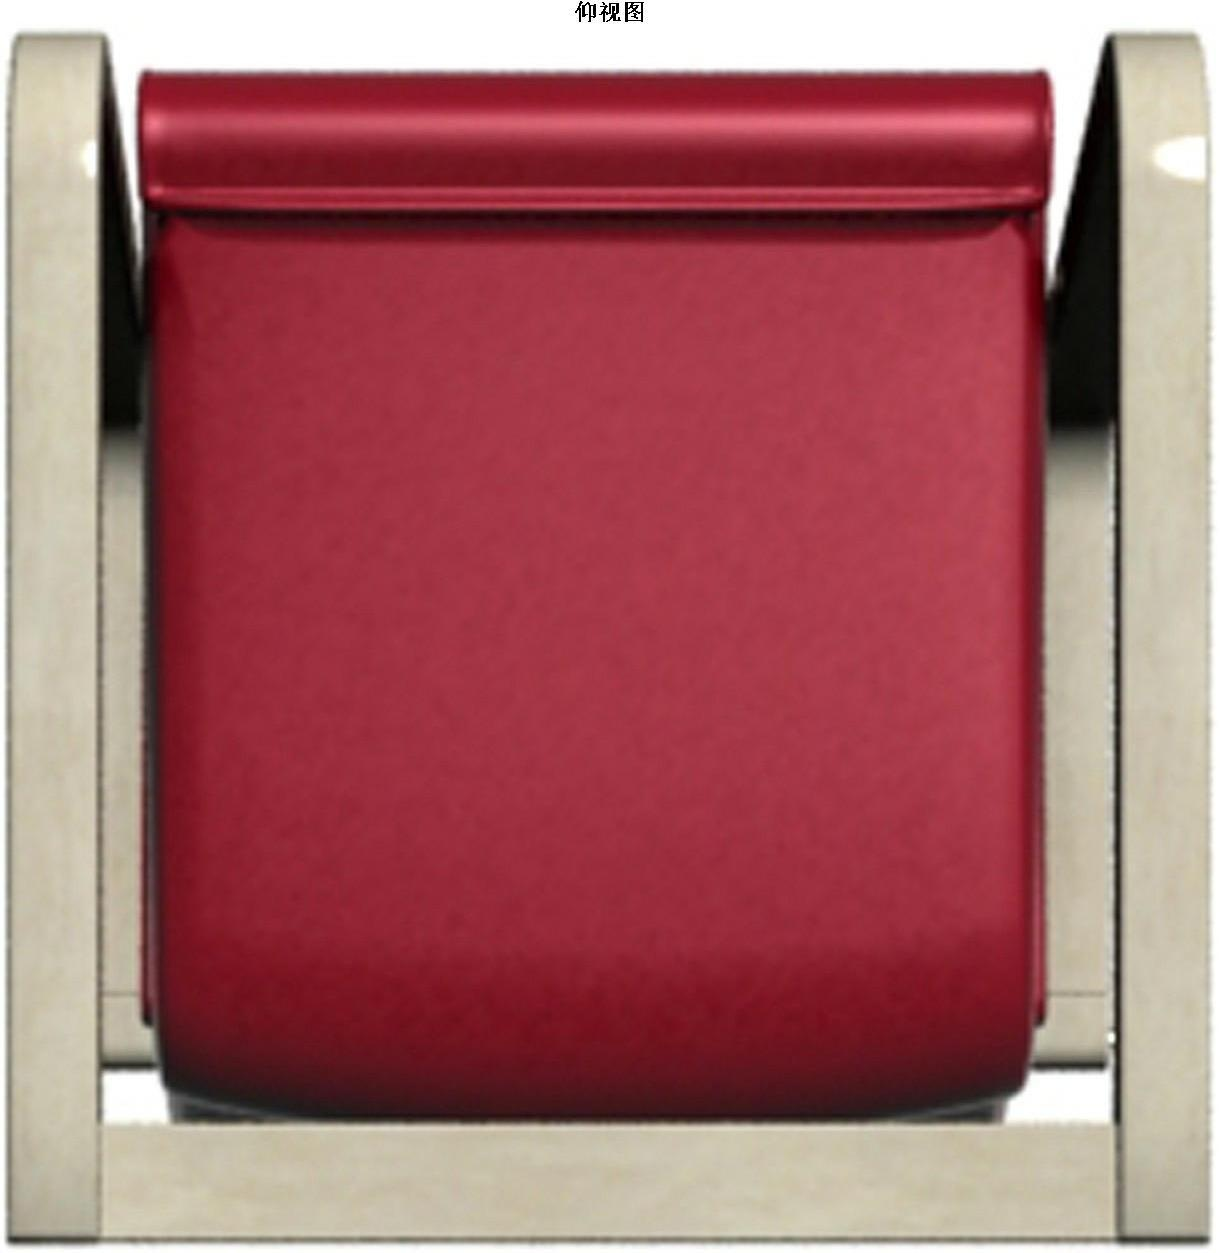obstacle: (140, 74, 1050, 1117)
